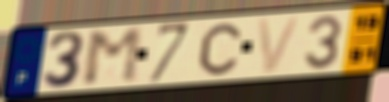3: (41, 30, 89, 91), (303, 13, 345, 71)
7: (147, 21, 193, 85)
C: (197, 22, 243, 77)
M: (82, 25, 145, 88)
V: (255, 15, 304, 75)
